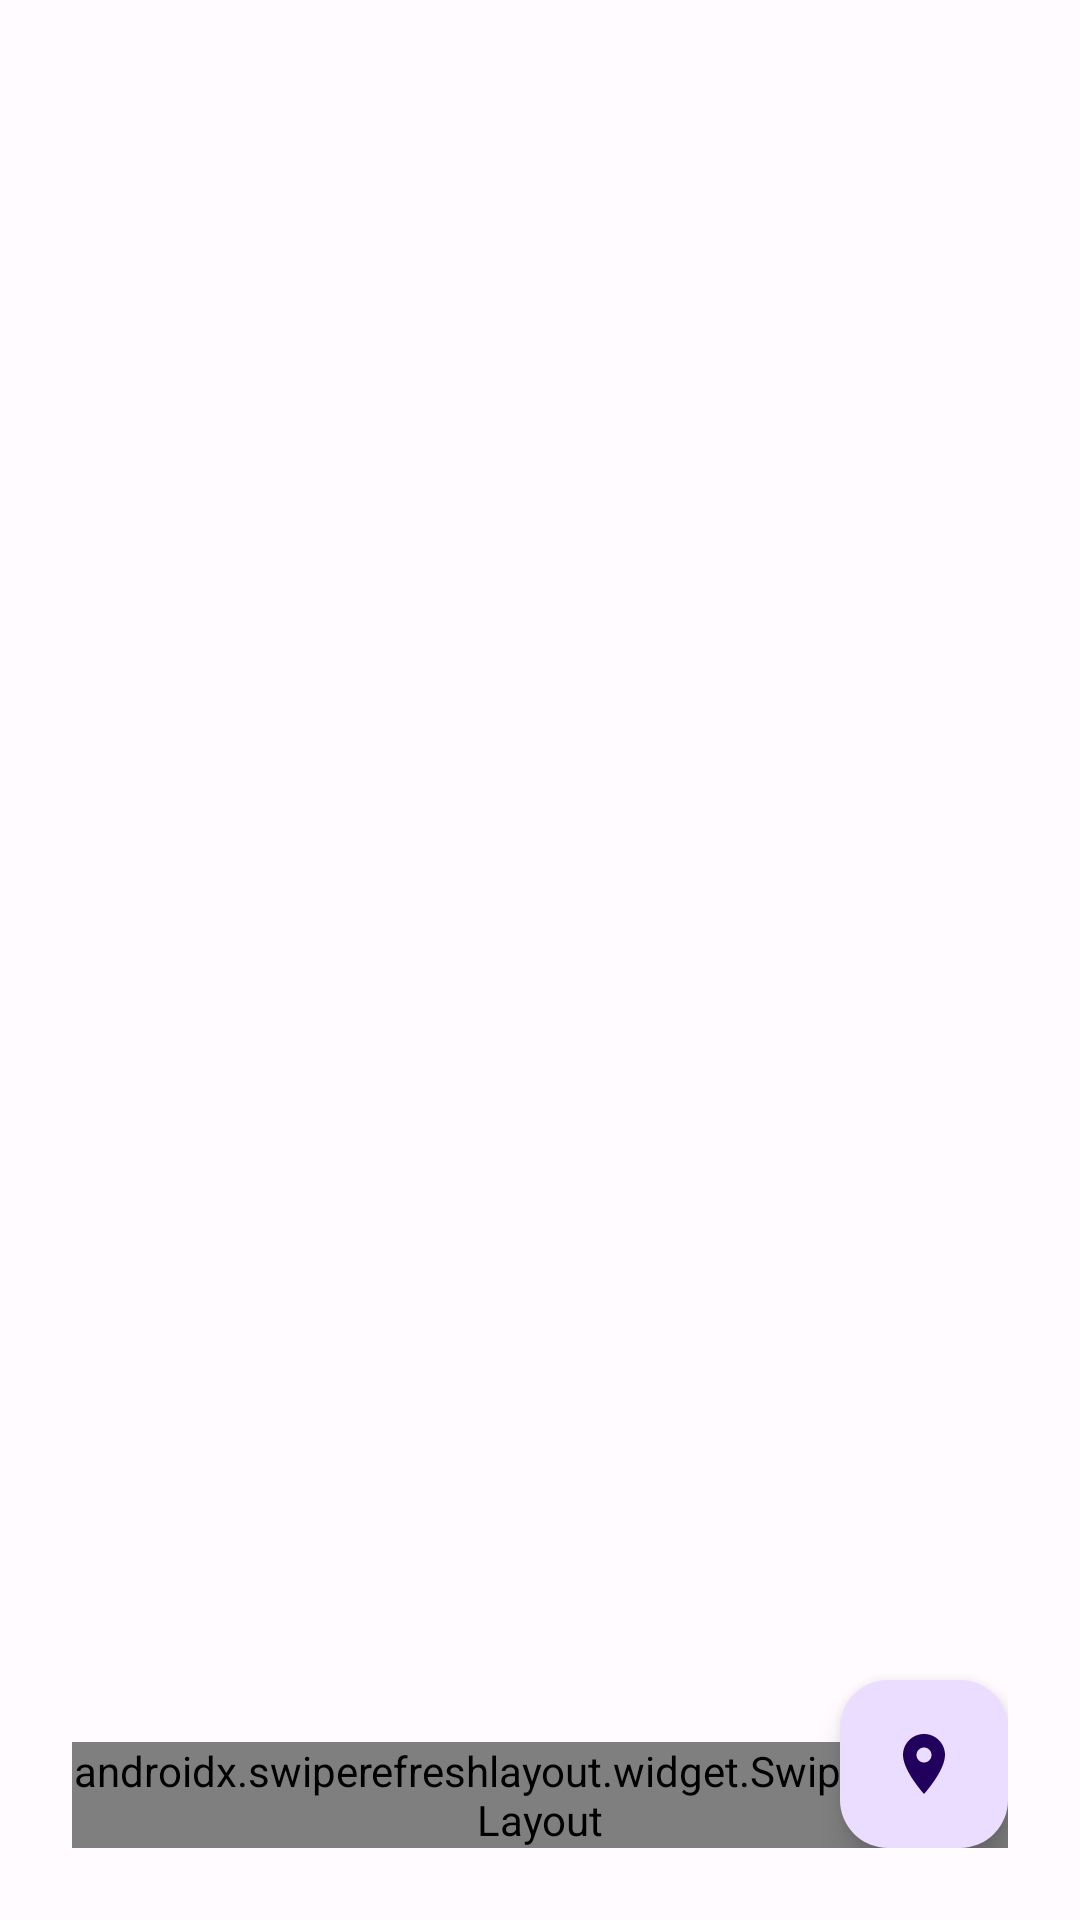

Icons on this 1080 x 1920 Android screen, each with the point to tap as (x=x, y=y):
geolokácia: (x=924, y=1764)
